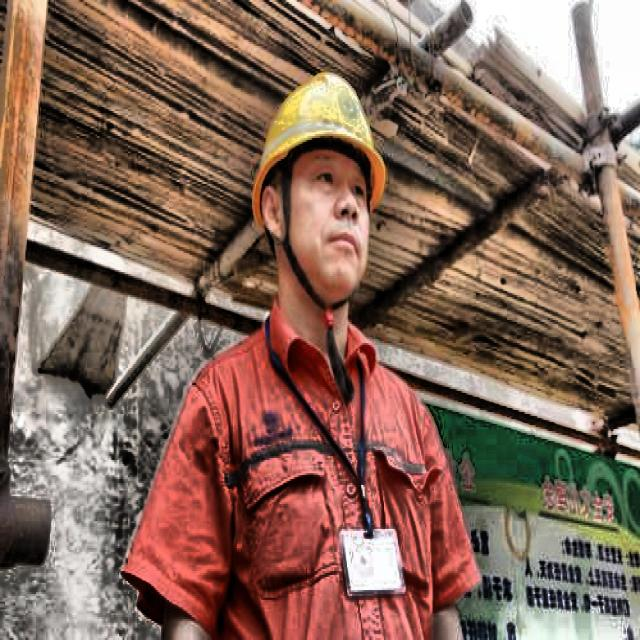helmet: (244, 50, 396, 320)
